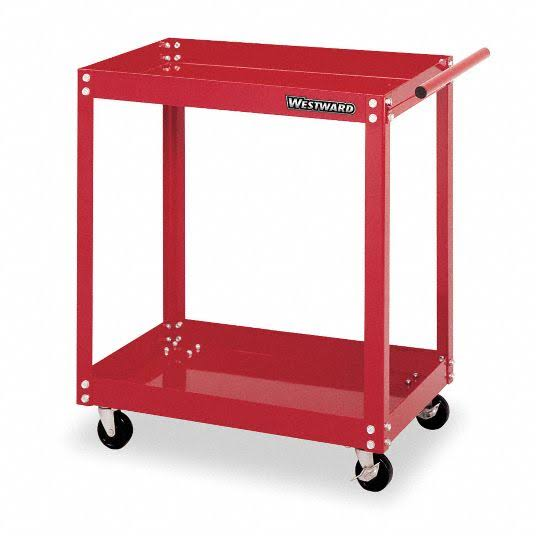Carts: (74, 35, 489, 495)
